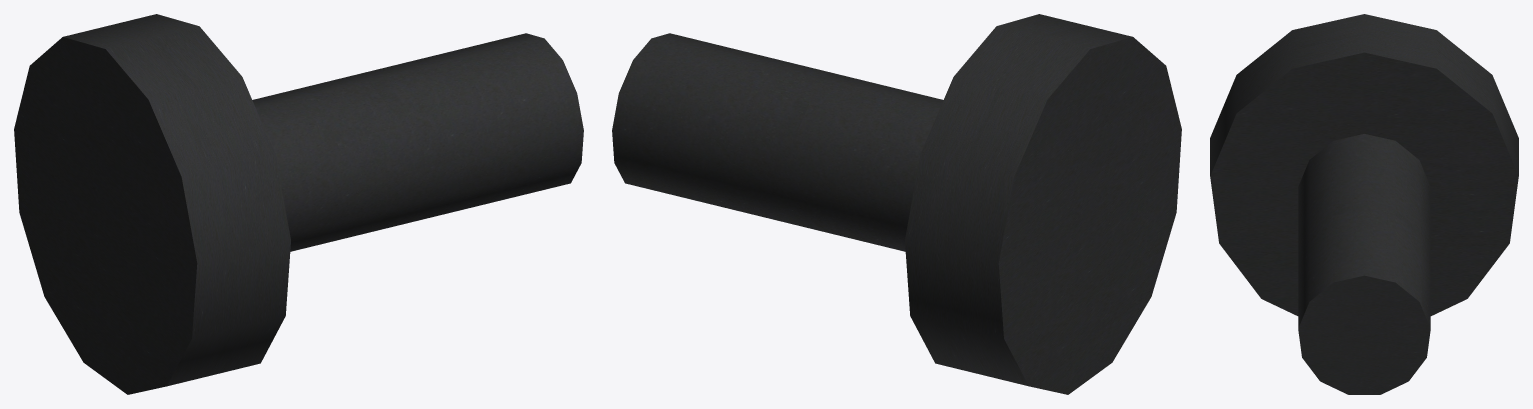
The model's file is Machine_Screw.dae.
3 views of the same model, side by side, from view 1: azimuth 30°, elevation 25°; view 2: azimuth 150°, elevation 25°; view 3: azimuth 270°, elevation 25° (orthographic). The views are drawn at different scales.
Parts seen in each view (by area): view 1: Machine_Screw; view 2: Machine_Screw; view 3: Machine_Screw.
Boxes of the visible parts, x1=… form: Machine_Screw: x1=14, y1=14, x2=583, y2=394; Machine_Screw: x1=612, y1=14, x2=1181, y2=394; Machine_Screw: x1=1210, y1=14, x2=1518, y2=394.
Size of the model in its own units: 0.0173 by 0.0125 by 0.0124.
1 material, 1 textured.
